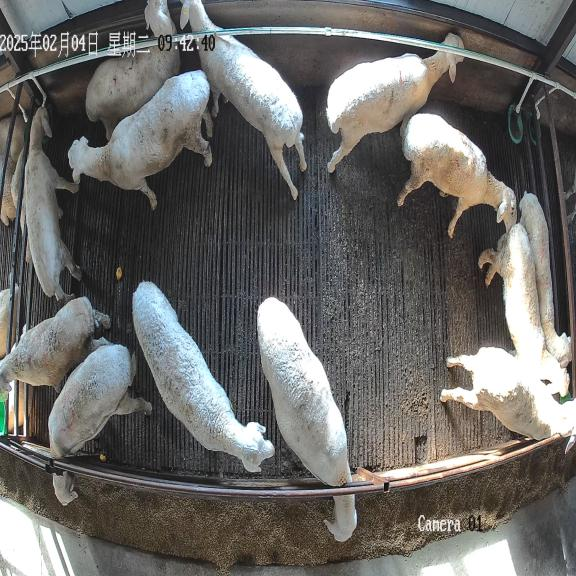drinking: (22, 107, 81, 303)
eating: (257, 297, 360, 541), (46, 338, 152, 505)
stand: (133, 282, 274, 472), (180, 0, 306, 200), (68, 70, 213, 209), (327, 33, 464, 173), (479, 224, 569, 399), (398, 113, 516, 238), (440, 347, 576, 453), (85, 0, 180, 139), (0, 297, 110, 395), (519, 192, 571, 366)
